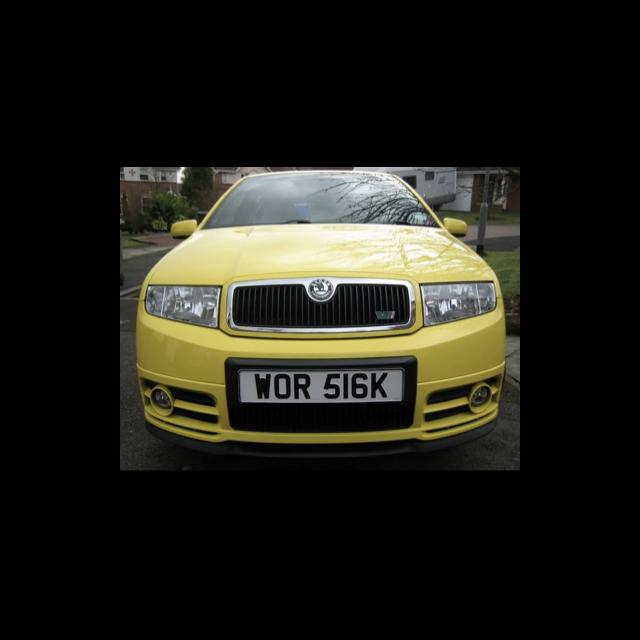Plate: (237, 370, 406, 405)
